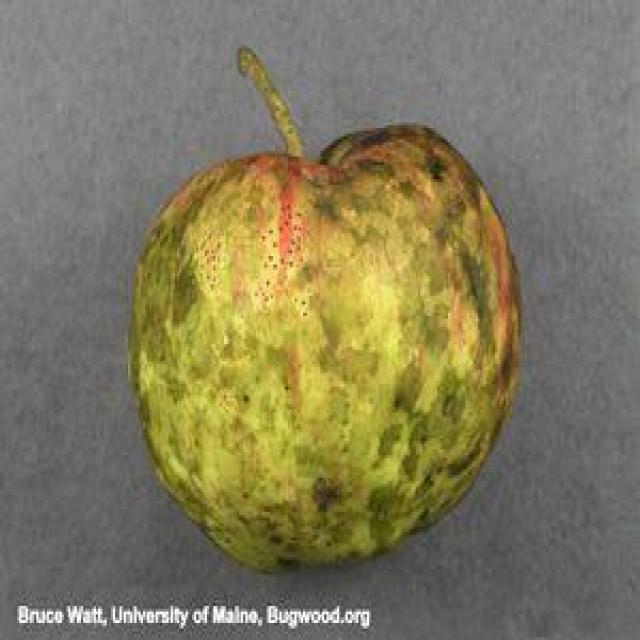Rotten: (136, 153, 500, 567)
